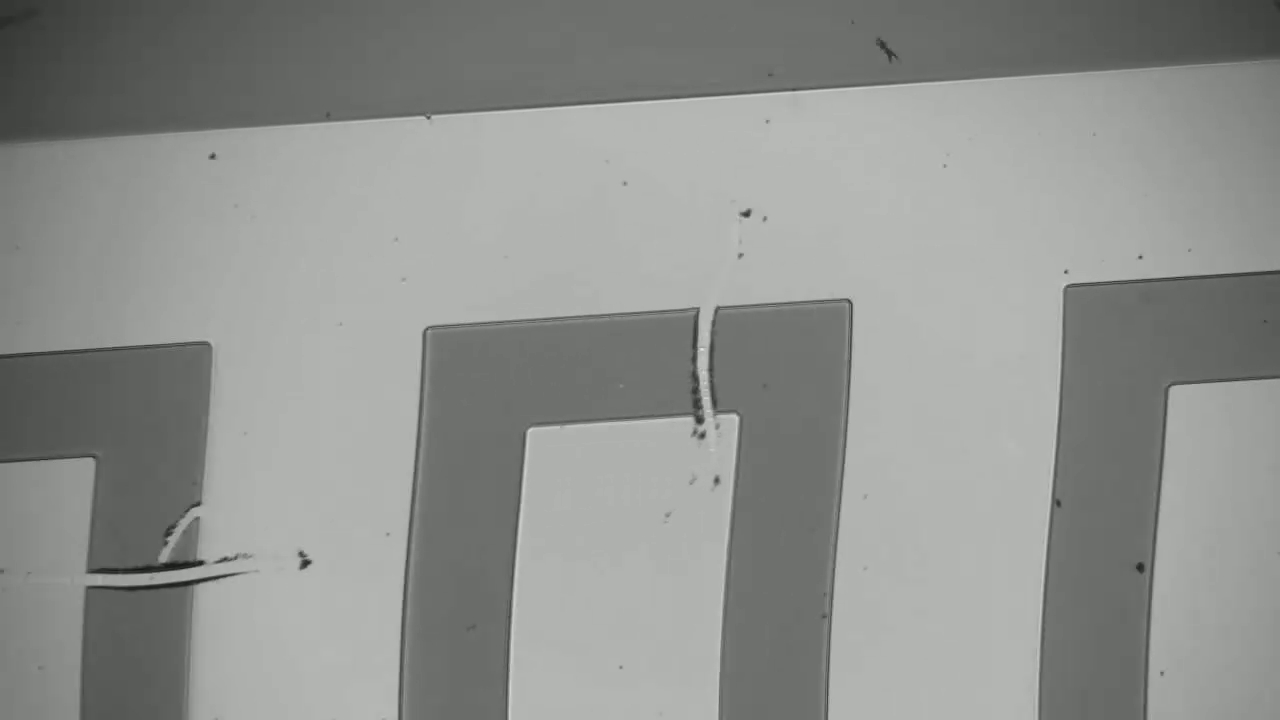Short_circuit: (49, 545, 241, 610), (672, 286, 736, 438)
